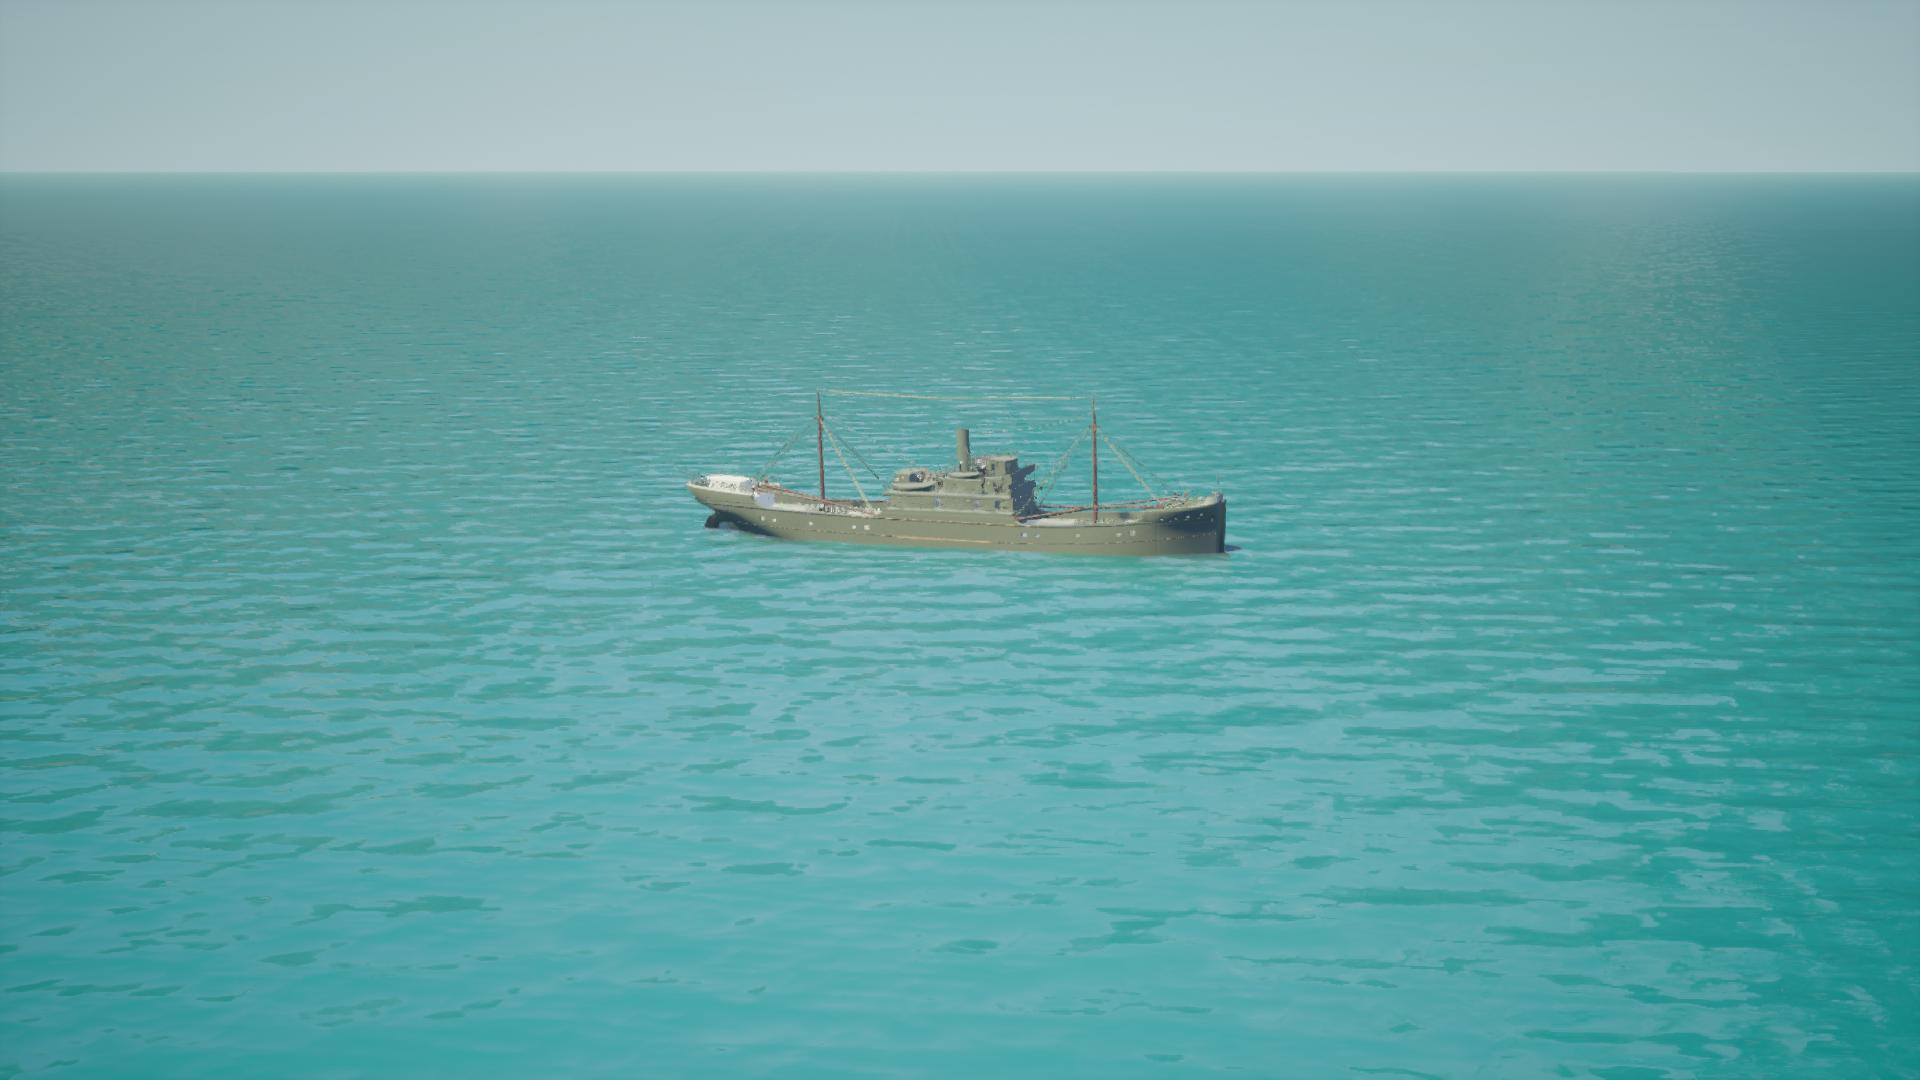Fishing Boat: (684, 398, 1230, 555)
